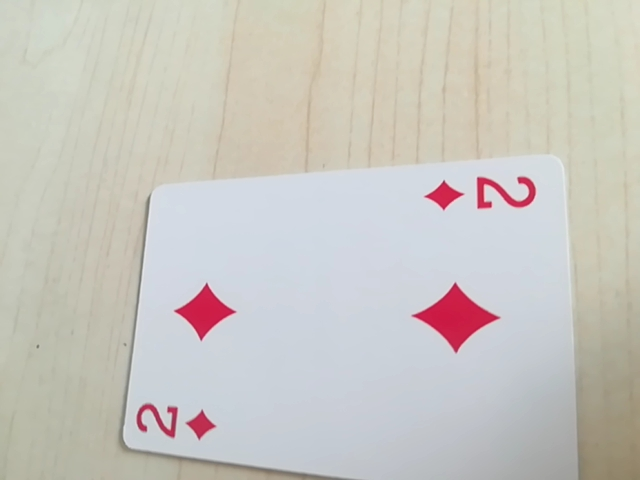fk 2: (421, 168, 545, 220), (131, 392, 227, 451)
